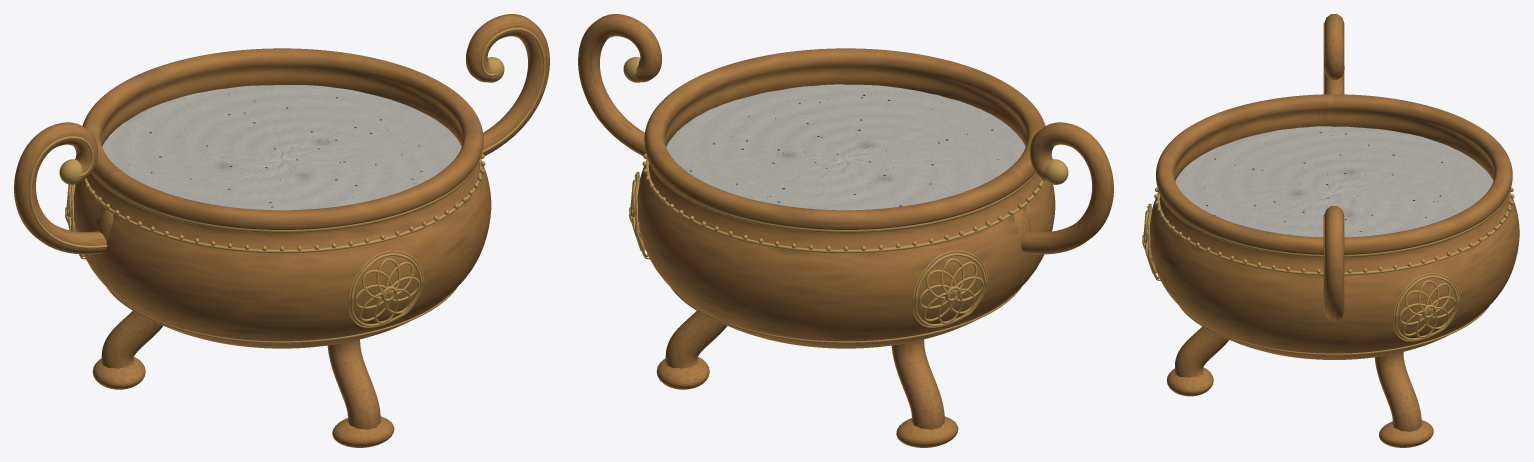
File: incense-vessel.glb
3 views of the same model, side by side, from view 1: azimuth 30°, elevation 25°; view 2: azimuth 150°, elevation 25°; view 3: azimuth 270°, elevation 25° (orthographic). The views are drawn at different scales.
Visible parts, largest first — view 1: Koro | fine cast bronze, Koro | granular incense ash, Koro | burnished chased edges; view 2: Koro | fine cast bronze, Koro | granular incense ash, Koro | burnished chased edges; view 3: Koro | fine cast bronze, Koro | granular incense ash, Koro | burnished chased edges.
Boxes of the visible parts, box(x1,y1,x2,y2) form: Koro | fine cast bronze: box(14, 14, 549, 447); Koro | granular incense ash: box(102, 85, 461, 210); Koro | burnished chased edges: box(29, 28, 545, 343); Koro | fine cast bronze: box(578, 14, 1113, 447); Koro | granular incense ash: box(666, 84, 1025, 210); Koro | burnished chased edges: box(623, 57, 1068, 343); Koro | fine cast bronze: box(1149, 14, 1519, 447); Koro | granular incense ash: box(1175, 126, 1493, 237); Koro | burnished chased edges: box(1142, 22, 1514, 355).
Size of the model in its own units: 1.04 by 0.5852 by 0.7227.
4 materials, 2 textured.
